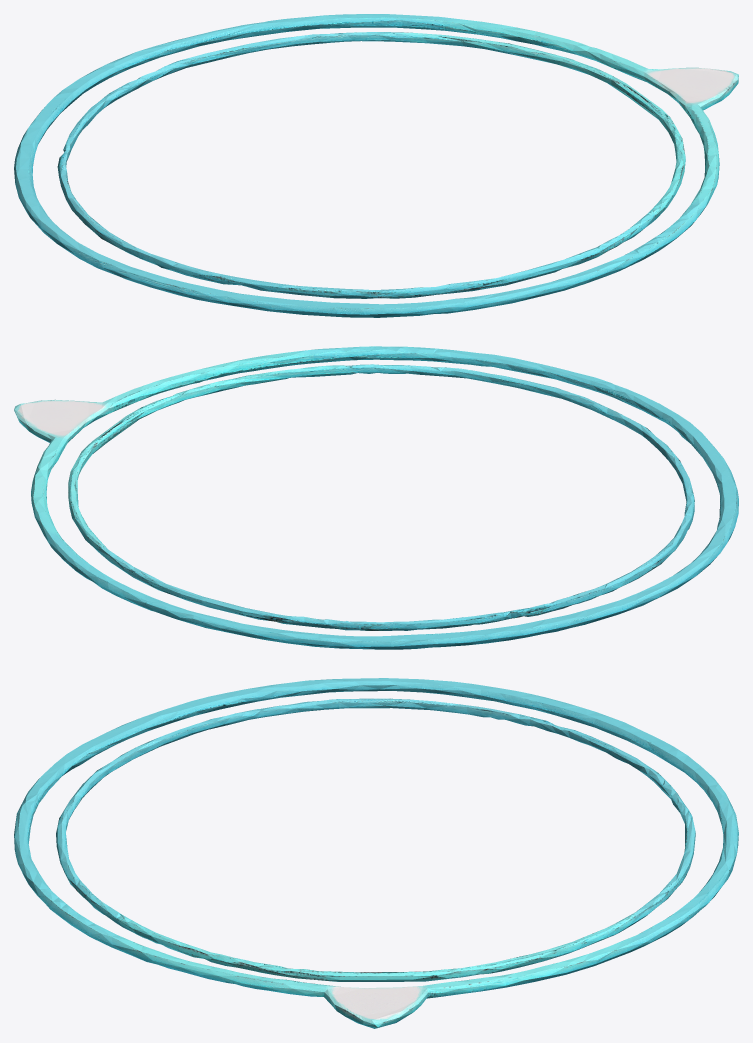
Rendered from ui_tutorial_speech_bubble.glb.
3 views of the same model, one above another, from view 1: azimuth 30°, elevation 25°; view 2: azimuth 150°, elevation 25°; view 3: azimuth 270°, elevation 25° (orthographic). The views are drawn at different scales.
Visible parts, largest first — view 1: world; view 2: world; view 3: world.
Boxes of the visible parts, x1,y1,x2,y2 form: world: (14, 14, 738, 317); world: (14, 346, 738, 649); world: (14, 678, 738, 1028).
Bounding box in the file's own units: 0.9949 × 0.016 × 0.8822.
1 material, 1 textured.
